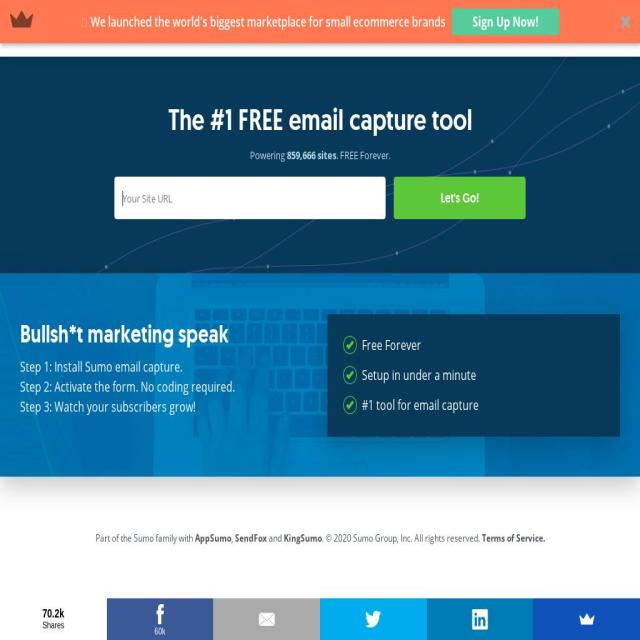button: (0, 0, 640, 43), (394, 177, 526, 220), (106, 598, 214, 640), (319, 598, 427, 640), (426, 598, 534, 640), (213, 598, 320, 640), (533, 598, 640, 640), (452, 8, 559, 35), (560, 13, 619, 42), (22, 20, 84, 36)
field: (114, 177, 386, 220)
heading: (8, 99, 632, 142), (20, 316, 312, 352)
image: (0, 57, 640, 344), (0, 274, 640, 478), (0, 0, 640, 43), (6, 0, 37, 41), (22, 20, 84, 36), (257, 606, 276, 632), (364, 606, 383, 632), (470, 606, 489, 632), (577, 606, 596, 632), (150, 602, 169, 626), (342, 335, 357, 354), (342, 365, 357, 384), (342, 395, 357, 414), (620, 15, 630, 28)
link: (481, 530, 545, 545), (215, 19, 252, 35), (283, 530, 322, 545), (194, 530, 232, 545), (514, 19, 546, 35), (273, 19, 304, 35), (234, 530, 267, 545), (322, 19, 346, 35)
text: (80, 12, 446, 32), (20, 356, 312, 376), (20, 376, 312, 396), (20, 396, 312, 416), (321, 530, 482, 545), (359, 396, 479, 415), (359, 366, 476, 385), (95, 530, 195, 545), (359, 336, 421, 355), (106, 626, 214, 636), (336, 146, 390, 162), (149, 19, 188, 35), (249, 146, 287, 162), (96, 19, 128, 35), (286, 146, 316, 162), (315, 146, 336, 162), (42, 606, 64, 620), (266, 530, 284, 545), (42, 619, 64, 630), (231, 530, 235, 545)
